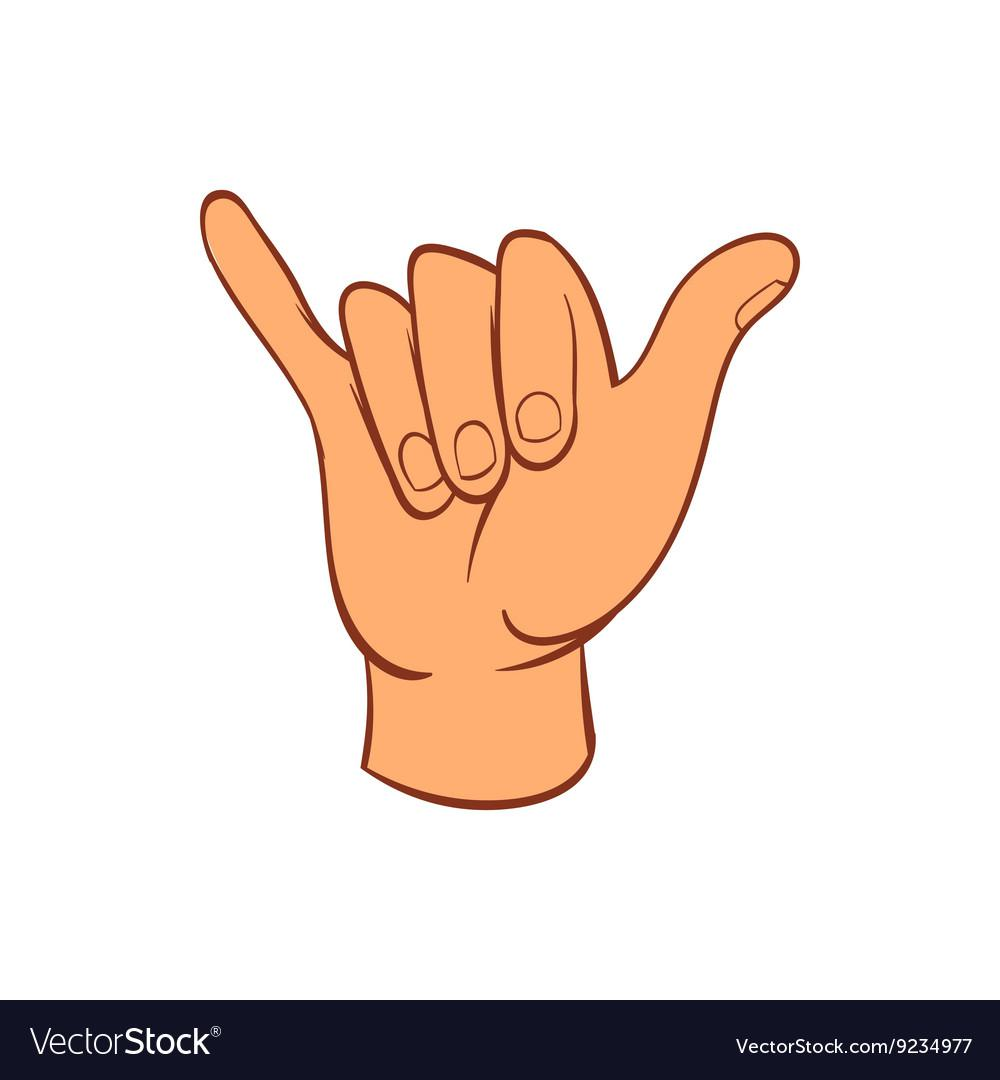subscribe-to-tem: (199, 185, 803, 825)
